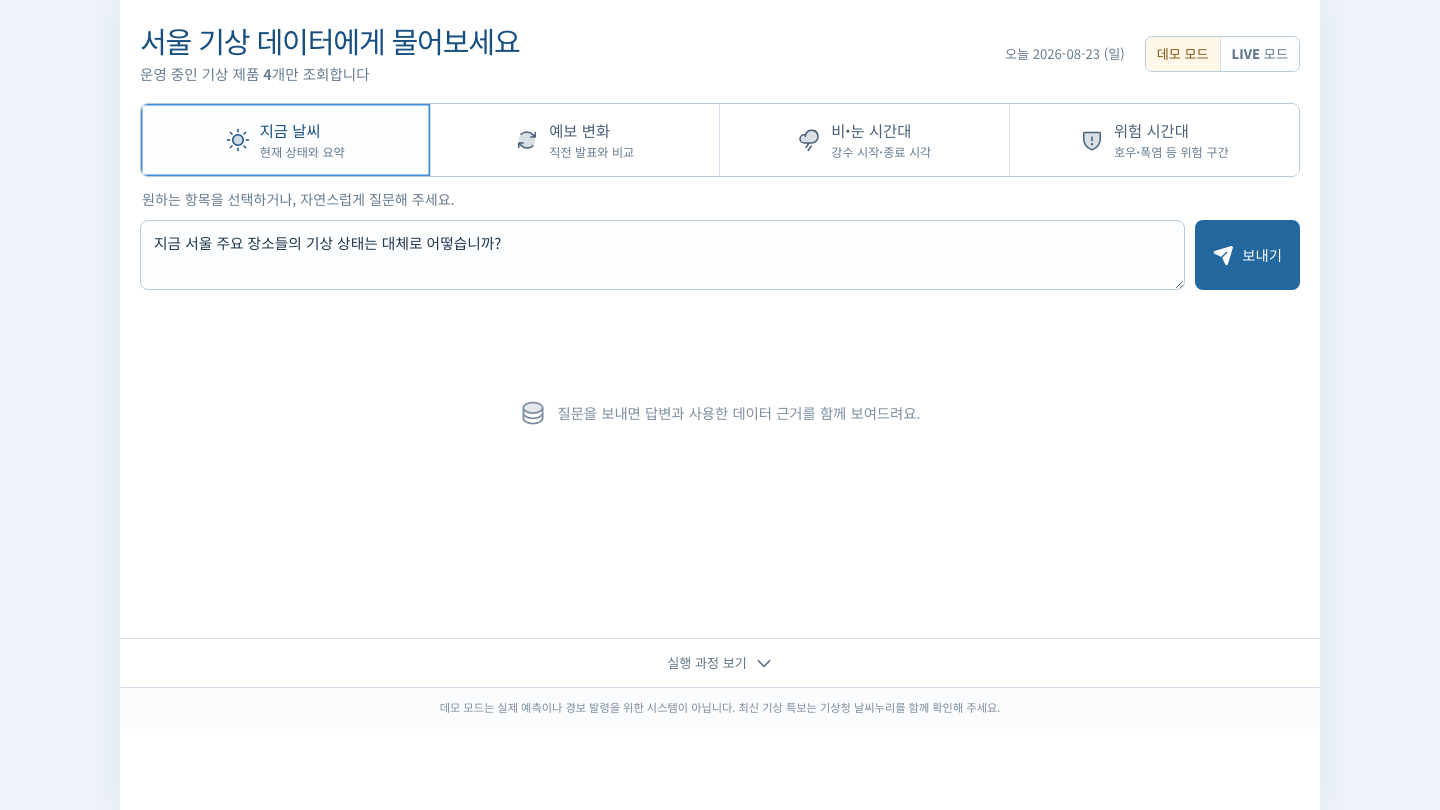
Test: ASK Seoul 기상 에이전트 UI › 네 가지 기상 의도를 탭으로 선택하면 질문을 채우고 선택 상태를 알린다
The image size is (1440, 810).
Check: the navigation bar named "기상 질문 유형" is shown, box [140, 103, 1300, 177]
Click the tab "비·눈 시간대 강수 시작·종료 시각". click: (865, 140)
box: [720, 104, 1010, 176]
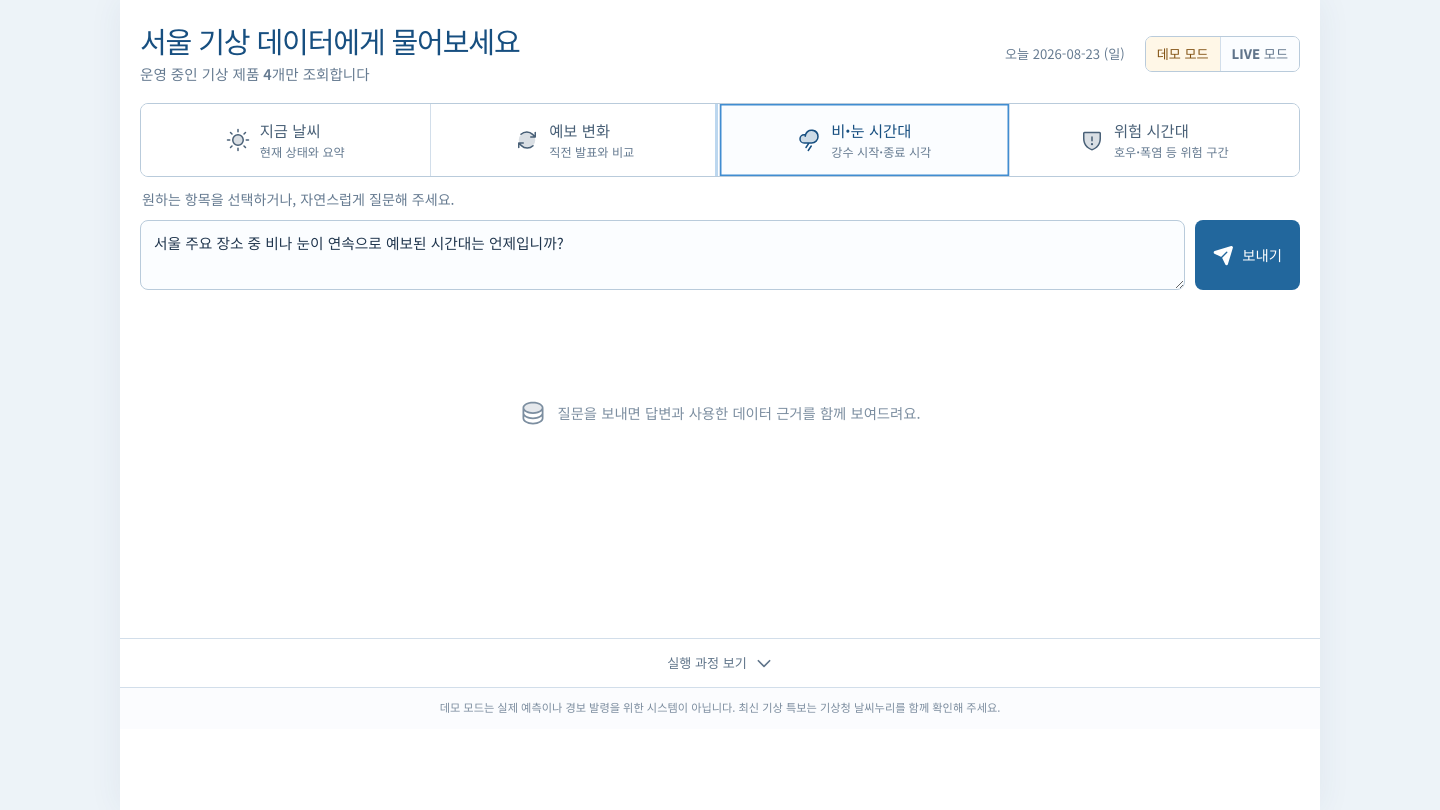
Check: the text box named "질문" holds "서울 주요 장소 중 비나 눈이 연속으로 예보된 시간대는 언제입니까?", box [140, 220, 1185, 290]
